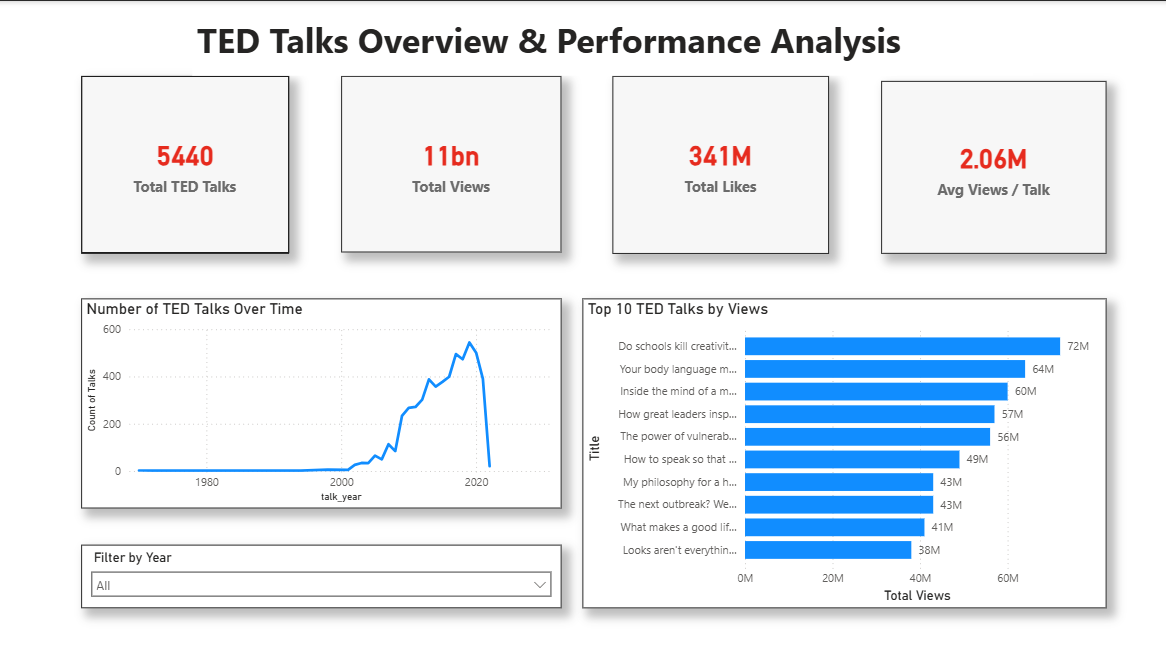

Layout of this report page (visuals, bound fields, positions):
{"tool":"powerbi","page":{"name":"OVERVIEW (TED TALKS)","canvas":[1280,720],"ordinal":0},"visuals":[{"type":"card","fields":{"Values":["Count(VW_TED_TALKS_ENRICHED.ted_talks_title)"]},"box":[89.2,82.3,227.8,194.9],"z":0},{"type":"card","fields":{"Values":["Sum(VW_TED_TALKS_ENRICHED.total_views)"]},"box":[374.2,82.3,241.5,193.5],"z":1},{"type":"card","fields":{"Values":["Sum(VW_TED_TALKS_ENRICHED.total_likes)"]},"box":[672.8,82.3,237.4,194.9],"z":2},{"type":"lineChart","title":"Number of TED Talks Over Time","fields":{"Category":["VW_TED_TALKS_ENRICHED.talk_year"],"Y":["Count(VW_TED_TALKS_ENRICHED.ted_talks_title)"]},"box":[89.2,326.6,526.9,230.5],"z":3},{"type":"clusteredBarChart","title":"Top 10 TED Talks by Views","fields":{"Category":["VW_TED_TALKS_ENRICHED.ted_talks_title"],"Y":["Sum(VW_TED_TALKS_ENRICHED.total_views)"]},"box":[639.5,326.6,575,340.3],"z":4},{"type":"slicer","fields":{"Values":["VW_TED_TALKS_ENRICHED.talk_year"]},"box":[89.2,596.9,526.9,70],"z":5},{"type":"card","fields":{"Values":["Measure.Avg Views per Talk"]},"box":[967.4,87.8,247,189.4],"z":6},{"type":"textbox","box":[211.3,12.3,922.1,70],"z":7}]}

Visuals, with their boxes in screenshot pixels (x1, y1, x2, y2), scaled from the page's 1280x720 canvas onto the 1166x653 screenshot:
card - Count(VW_TED_TALKS_ENRICHED.ted_talks_title): <bbox>81, 75, 289, 251</bbox>
card - Sum(VW_TED_TALKS_ENRICHED.total_views): <bbox>341, 75, 561, 250</bbox>
card - Sum(VW_TED_TALKS_ENRICHED.total_likes): <bbox>613, 75, 829, 251</bbox>
"Number of TED Talks Over Time" lineChart: <bbox>81, 296, 561, 505</bbox>
"Top 10 TED Talks by Views" clusteredBarChart: <bbox>583, 296, 1106, 605</bbox>
slicer - VW_TED_TALKS_ENRICHED.talk_year: <bbox>81, 541, 561, 605</bbox>
card - Measure.Avg Views per Talk: <bbox>881, 80, 1106, 251</bbox>
textbox: <bbox>192, 11, 1032, 75</bbox>
